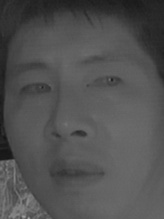eye: (86, 70, 126, 93), (17, 76, 56, 99)
mouth: (47, 158, 110, 192)
